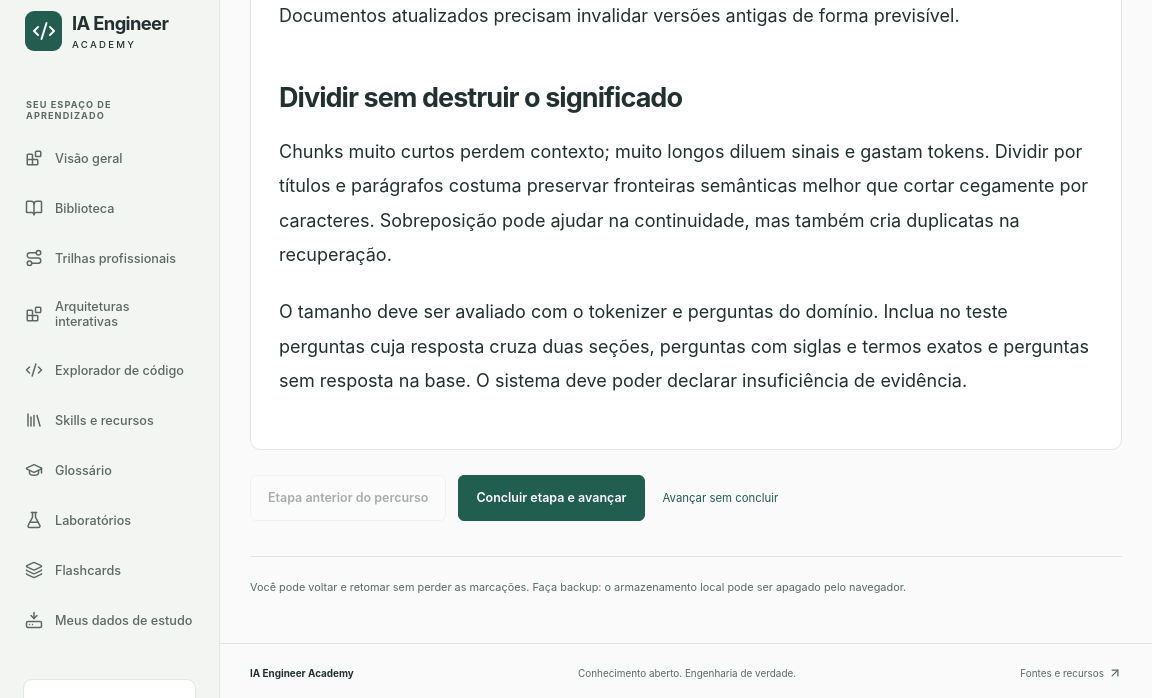
estudo guiado e revisão editorial › oferece retomada dos percursos na área de dados
(page scrolled)
Click the button "Concluir etapa e avançar". click: (551, 498)
box: [458,475,644,521]
(page scrolled)
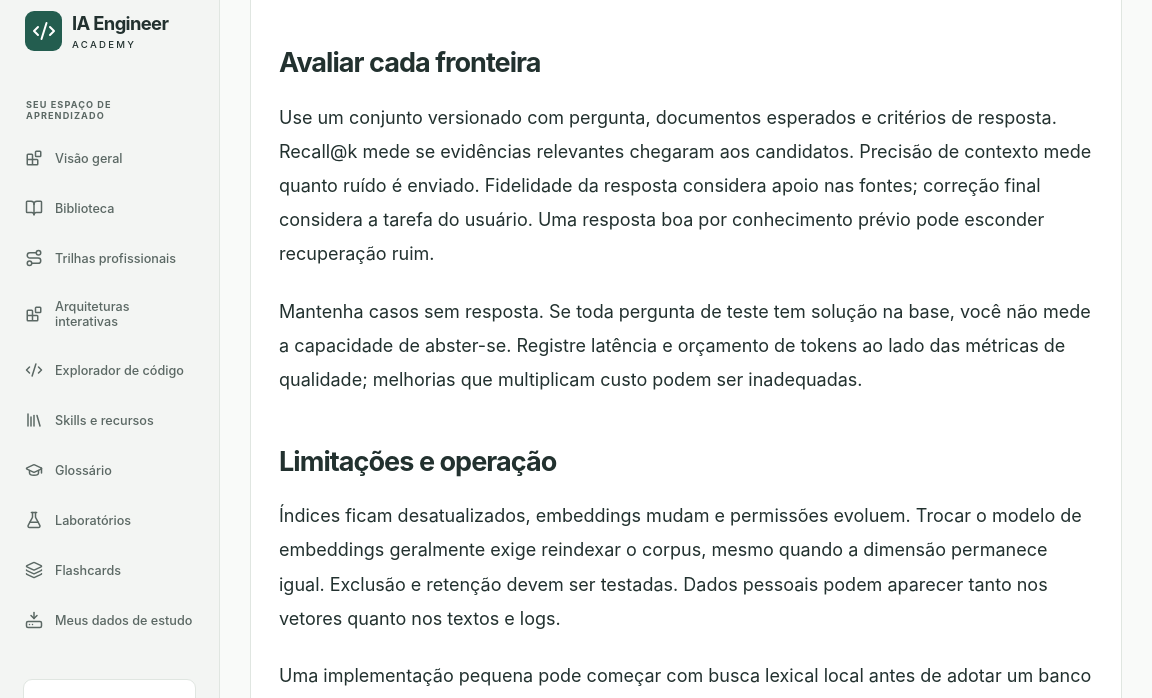
Click the link "Meus dados de estudo". click: (109, 620)
box: [25,611,192,629]
(page scrolled)
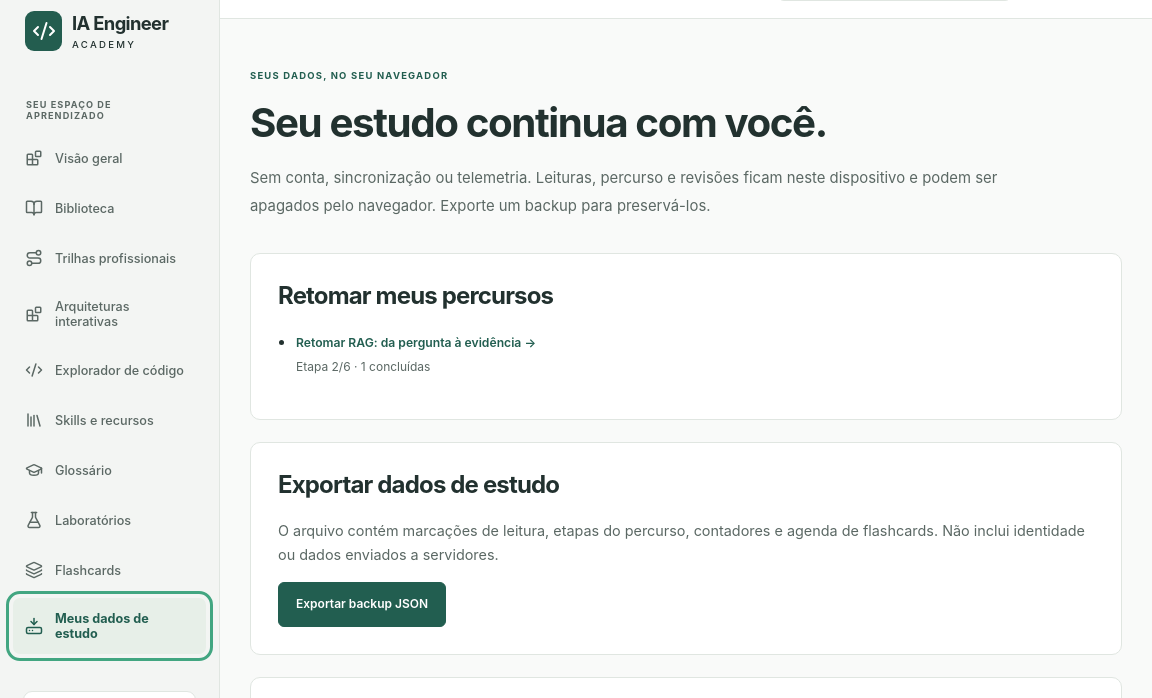
Result: the link "Retomar RAG: da pergunta à evidência →" is shown at [296,334,536,352]
